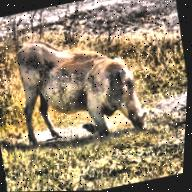boar: (9, 12, 164, 162)
